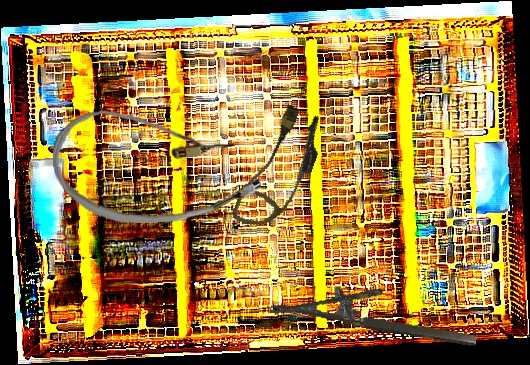Cannula: (51, 104, 263, 227), (230, 99, 331, 239)
Needle Holder: (269, 271, 483, 349)
